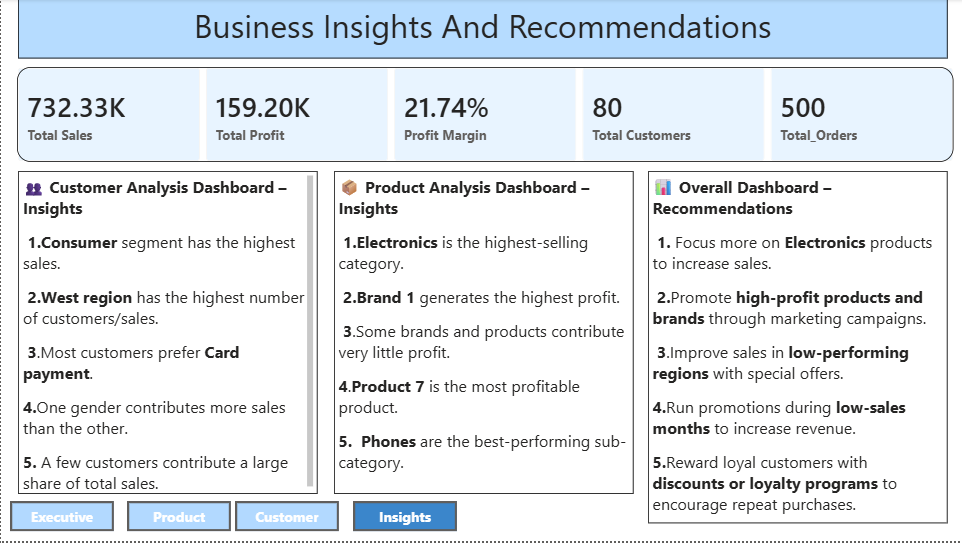

The dashboard page shown, as its layout file describes it:
{"tool":"powerbi","page":{"name":"Business Insights And Recommendations","canvas":[1280,720],"ordinal":3},"visuals":[{"type":"textbox","box":[22,0,1235.1,79],"z":0},{"type":"cardVisual","fields":{"Data":["Orders(1).Total_Sale","Orders(1).Total_Profit","Orders(1).Profit_Margine","Customers(1).Total Customers","Orders(1).Total_Orders"]},"box":[8.8,79,1271.7,150.7],"z":1000},{"type":"textbox","box":[22,228.3,398,428.8],"z":2000},{"type":"textbox","box":[442,228.3,398,428.8],"z":3000},{"type":"textbox","box":[859,228.3,398,468.3],"z":4000},{"type":"actionButton","box":[11.5,666.7,138.2,40.3],"z":5000},{"type":"actionButton","box":[167,666.7,138.2,40.3],"z":6000},{"type":"actionButton","box":[311,666.7,138.2,40.3],"z":7000},{"type":"actionButton","box":[468,666.7,138.2,40.3],"z":8000}]}

Visuals, with their boxes in screenshot pixels (x1, y1, x2, y2), scaled from the page's 1280x720 canvas onto the 962x545 screenshot:
textbox: 17/0/945/60
cardVisual - Orders(1).Total_Sale x Orders(1).Total_Profit: 7/60/961/174
textbox: 17/173/316/497
textbox: 332/173/631/497
textbox: 646/173/945/527
actionButton: 9/505/113/535
actionButton: 126/505/229/535
actionButton: 234/505/338/535
actionButton: 352/505/456/535
